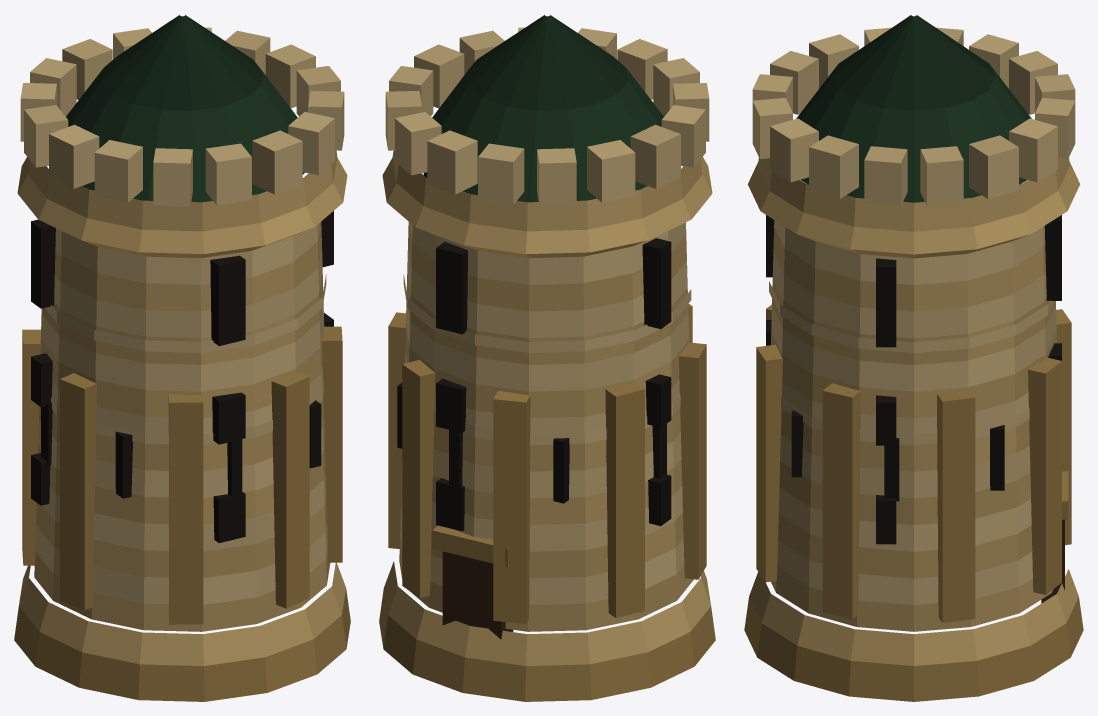
File: castle-b.glb
3 renders of one model, left to right at view 1: azimuth 30°, elevation 25°; view 2: azimuth 150°, elevation 25°; view 3: azimuth 270°, elevation 25°, orthographic.
Visible parts, largest first — view 1: castle-b; view 2: castle-b; view 3: castle-b.
Part boxes in pixels (x1,y1,x2,y2): castle-b: [14, 15, 350, 701]; castle-b: [379, 15, 715, 701]; castle-b: [744, 15, 1083, 701].
Bounding box in the file's own units: 0.5 × 1 × 0.5.
